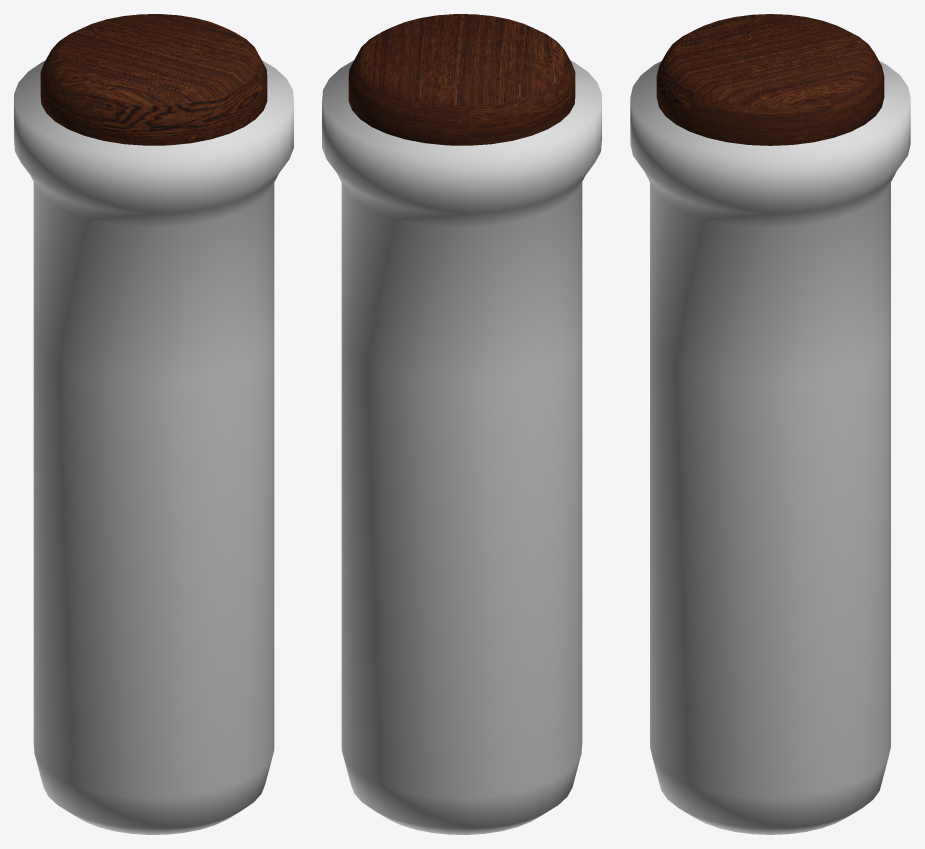
The model's file is G_Flask.fbx.
3 renders of one model, left to right at view 1: azimuth 30°, elevation 25°; view 2: azimuth 150°, elevation 25°; view 3: azimuth 270°, elevation 25°, orthographic.
Visible parts, largest first — view 1: Flask, FlaskLid; view 2: Flask, FlaskLid; view 3: Flask, FlaskLid.
Part boxes in pixels (x1,y1,x2,y2): Flask: [14, 60, 293, 834]; FlaskLid: [40, 14, 267, 145]; Flask: [322, 60, 601, 834]; FlaskLid: [348, 14, 575, 145]; Flask: [630, 61, 910, 834]; FlaskLid: [656, 14, 884, 145].
Bounding box in the file's own units: 45.38 × 133 × 45.38.
